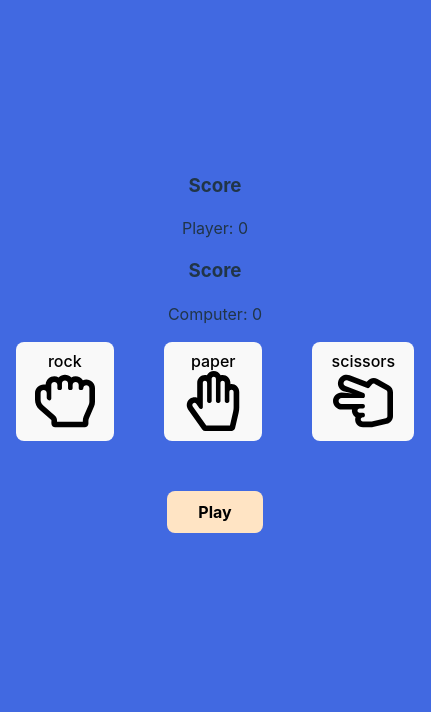
Scenario: ScoreAndResults › should display the Player winner message on the page
Click the button "paper" at {"x": 213, "y": 391}, box [164, 342, 262, 441]
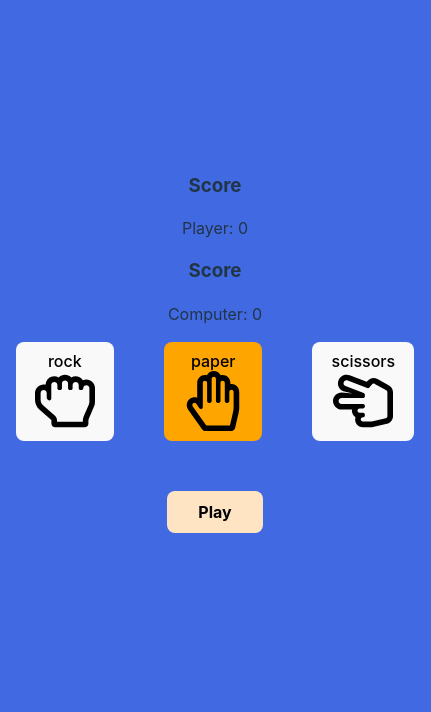
Click the button "Play" at {"x": 215, "y": 512}, box [167, 491, 263, 533]
Wait 3000 ms
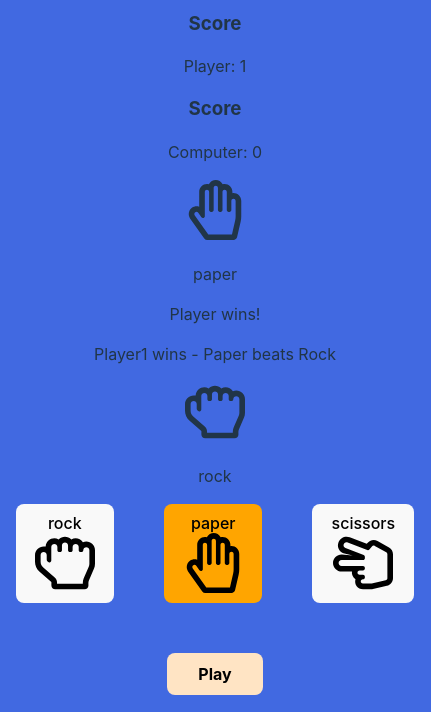
Expected: the text "Player wins!" is shown, [170, 304, 260, 324]
Expected: the text "Player1 wins - Paper beats Rock" is shown, [94, 344, 336, 364]
Expected: the text "Player: 1" is shown, [184, 56, 246, 76]
